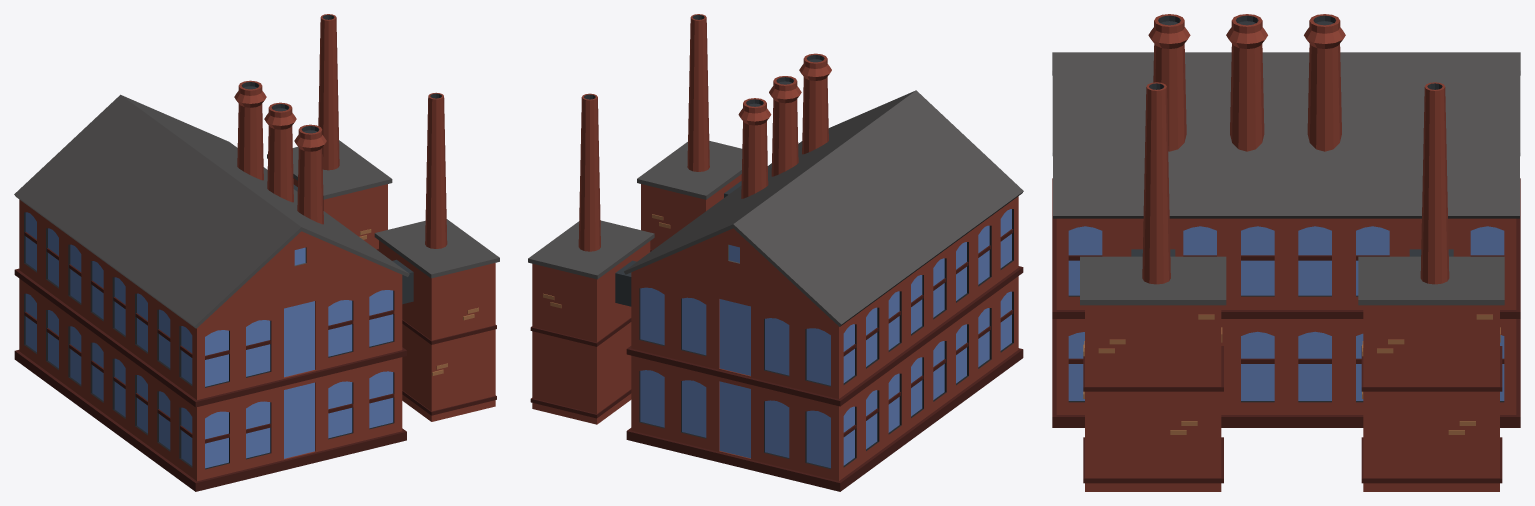
The model's file is Factory_6.fbx.
3 views of the same model, side by side, from view 1: azimuth 30°, elevation 25°; view 2: azimuth 150°, elevation 25°; view 3: azimuth 270°, elevation 25° (orthographic). The views are drawn at different scales.
Parts seen in each view (by area): view 1: Factory_6; view 2: Factory_6; view 3: Factory_6.
Boxes of the visible parts, box(x1,y1,x2,y2) form: Factory_6: box(14, 14, 499, 491); Factory_6: box(528, 14, 1023, 491); Factory_6: box(1052, 14, 1520, 491).
Size of the model in its own units: 1216 by 1096 by 1207.
